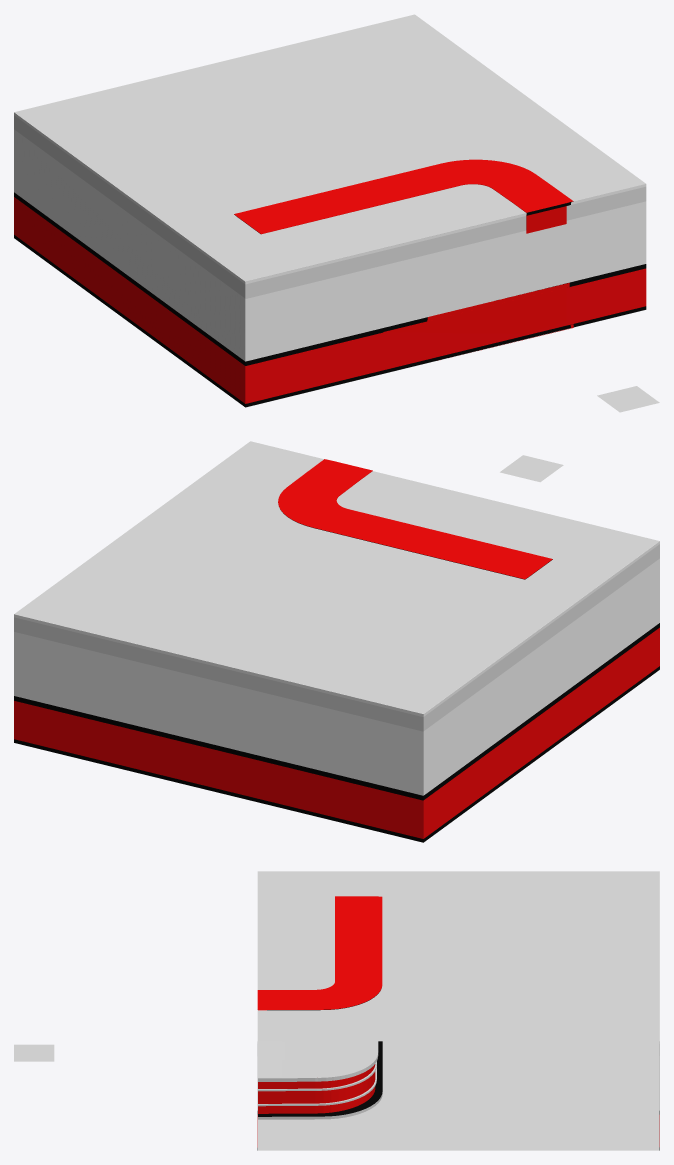
3 renders of one model, top to bottom at view 1: azimuth 30°, elevation 25°; view 2: azimuth 150°, elevation 25°; view 3: azimuth 270°, elevation 25°, orthographic. The views are drawn at different scales.
Parts seen in each view (by area): view 1: Celling, RightWall.001, RightWall.002, Cube.001, Cube, Plane; view 2: Celling, RightWall, RightWall.002, Cube.001, Plane; view 3: Celling, Floor, Cube, Cube.001, Plane.
Boxes of the visible parts, x1,y1,x2,y2 form: Celling: (14, 14, 645, 281); RightWall.001: (245, 184, 646, 407); RightWall.002: (14, 112, 245, 407); Cube.001: (234, 159, 573, 234); Cube: (383, 283, 573, 350); Plane: (597, 386, 659, 412); Celling: (14, 441, 659, 713); RightWall: (14, 614, 423, 842); RightWall.002: (423, 541, 659, 842); Cube.001: (278, 459, 552, 579); Plane: (500, 455, 563, 482); Celling: (257, 871, 659, 1041); Floor: (258, 1041, 659, 1150); Cube: (258, 1041, 382, 1119); Cube.001: (257, 896, 382, 1010); Plane: (14, 1044, 54, 1061).
Size of the model in its own units: 2001 by 604 by 3214.
